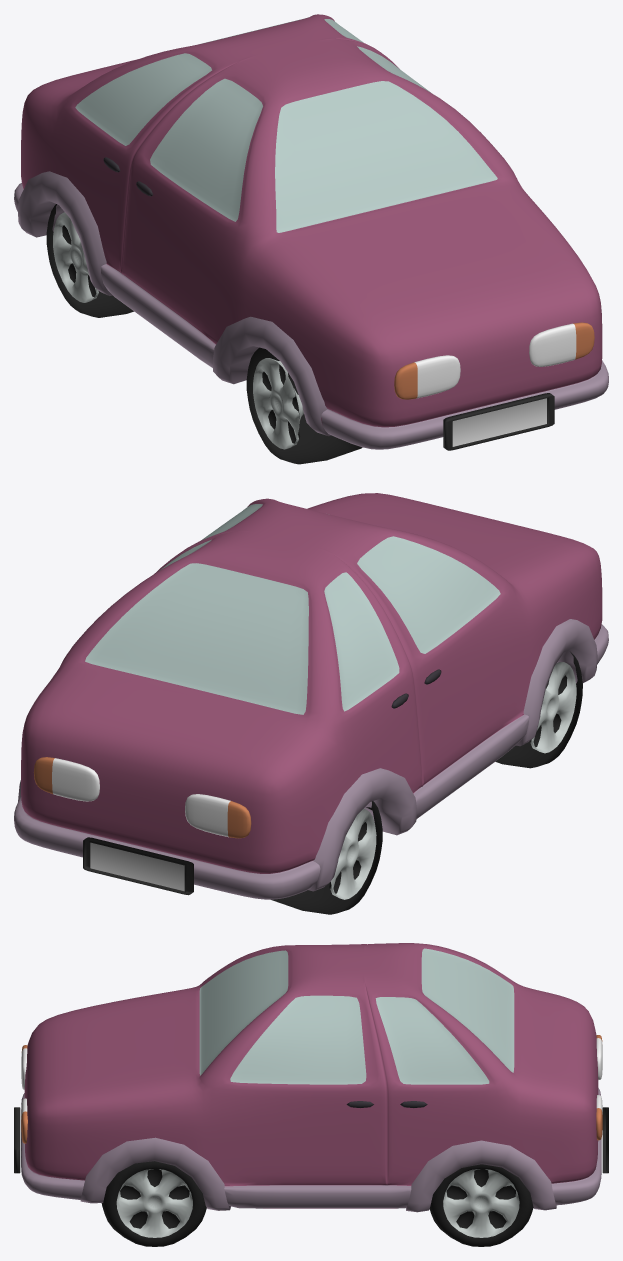
Rendered from car3-2 (2).fbx.
The picture shows the model from 3 angles, top to bottom: view 1: azimuth 30°, elevation 25°; view 2: azimuth 150°, elevation 25°; view 3: azimuth 270°, elevation 25°; orthographic projection. The views are drawn at different scales.
Parts seen in each view (by area): view 1: Cube, Cylinder.008, Cylinder.007, Cube.005, Cube.001; view 2: Cube, Cylinder.008, Cylinder.007, Cube.005, Cube.001; view 3: Cube, Cylinder.008, Cylinder.007, Cube.005, Cube.001.
Boxes of the visible parts, x1,y1,x2,y2 form: Cube: [14, 14, 608, 449]; Cylinder.008: [46, 204, 362, 464]; Cylinder.007: [17, 171, 330, 436]; Cube.005: [394, 322, 594, 399]; Cube.001: [443, 393, 554, 450]; Cube: [14, 493, 608, 899]; Cylinder.008: [271, 651, 582, 914]; Cylinder.007: [18, 619, 597, 891]; Cube.005: [33, 757, 251, 838]; Cube.001: [83, 837, 193, 895]; Cube: [21, 943, 601, 1208]; Cylinder.008: [101, 1161, 533, 1246]; Cylinder.007: [80, 1137, 556, 1212]; Cube.005: [21, 1035, 602, 1143]; Cube.001: [14, 1107, 608, 1173].
Size of the model in its own units: 453 by 389 by 888.
